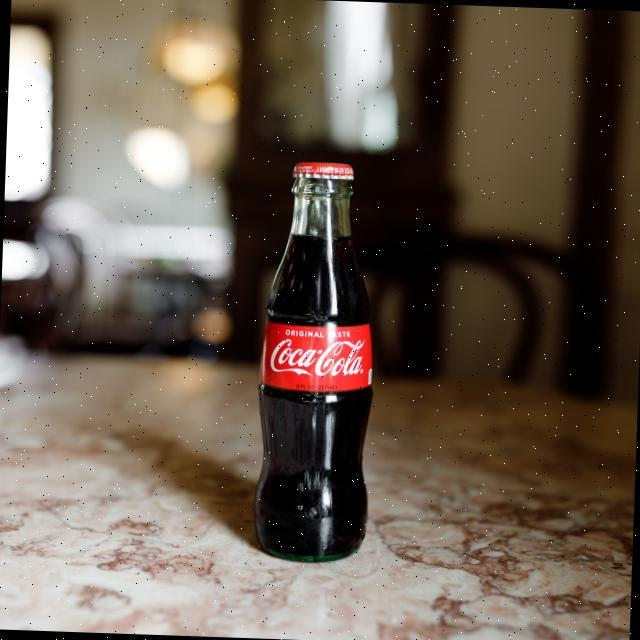coca-cola: (247, 151, 387, 562)
